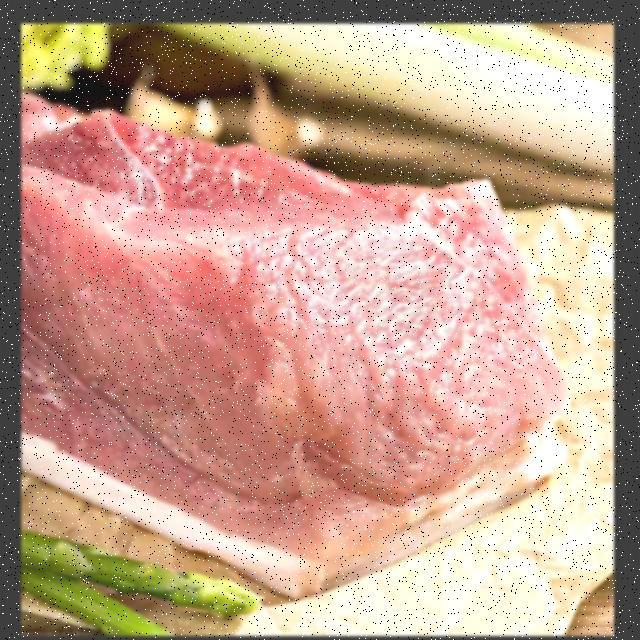pork: (26, 111, 571, 582)
